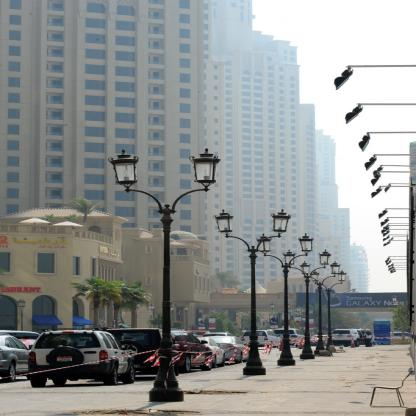Car: (1, 329, 306, 387)
